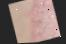plaque psoriasis: (21, 0, 60, 43), (7, 3, 18, 29)
